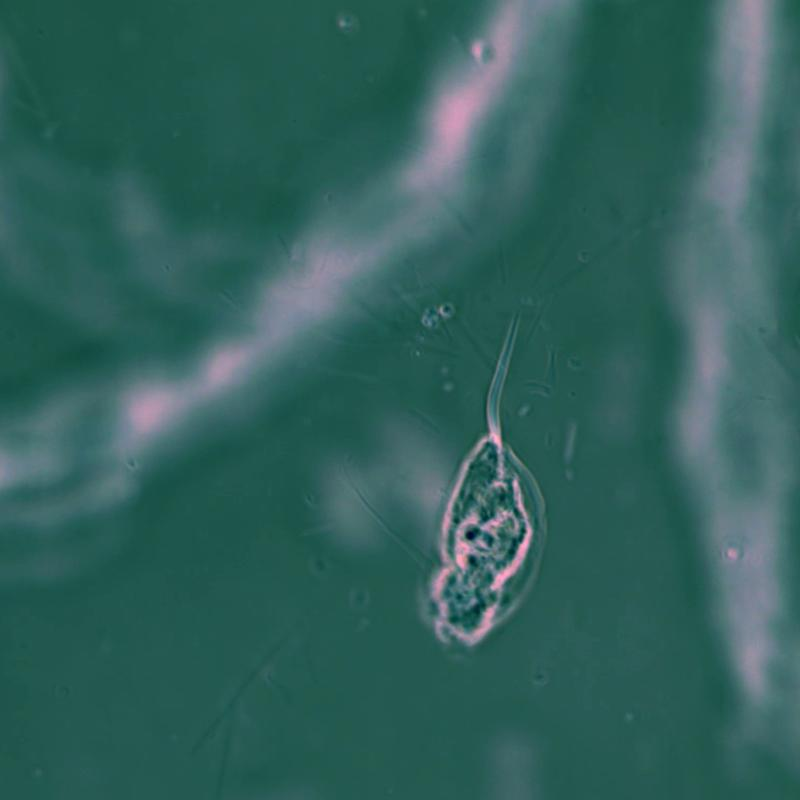depth:0: (417, 300, 628, 697)
